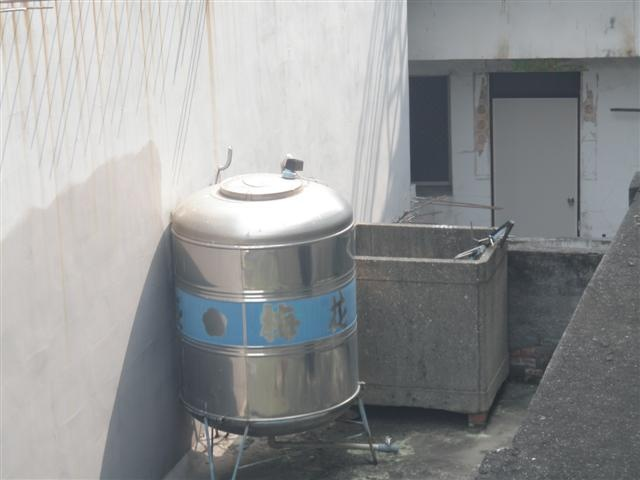box: (329, 210, 512, 432)
water_tower: (169, 174, 380, 479)
